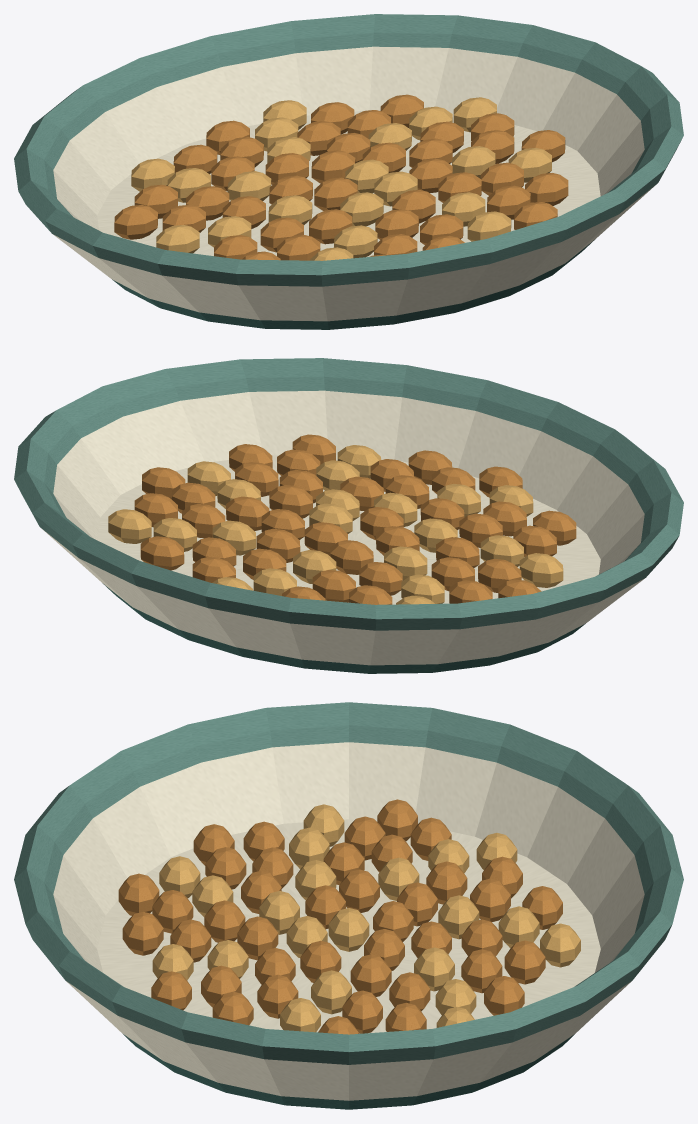
The model's file is food_bowl_full.obj.
The picture shows the model from 3 angles, top to bottom: view 1: azimuth 30°, elevation 25°; view 2: azimuth 150°, elevation 25°; view 3: azimuth 270°, elevation 25°; orthographic projection. The views are drawn at different scales.
Visible parts, largest first — view 1: food_bowl_full; view 2: food_bowl_full; view 3: food_bowl_full.
Boxes of the visible parts, x1,y1,x2,y2 form: food_bowl_full: (14,14,683,329); food_bowl_full: (14,358,683,673); food_bowl_full: (14,702,683,1109).
Bounding box in the file's own units: 13.3 × 2.05 × 10.91.
Materials: 1 (1 with a texture image).
